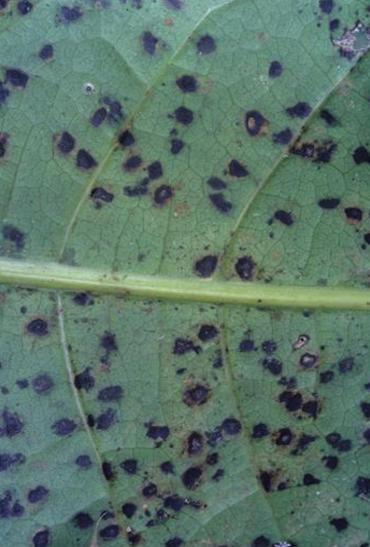black-spot: (16, 307, 370, 547), (41, 39, 370, 282)
